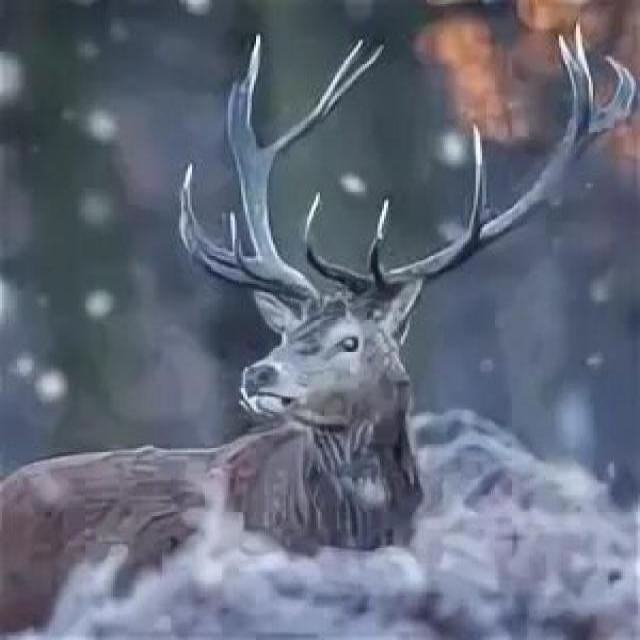deer: (72, 130, 580, 640)
